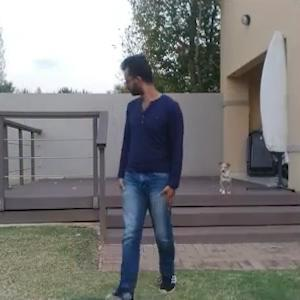follow: (92, 38, 187, 278)
